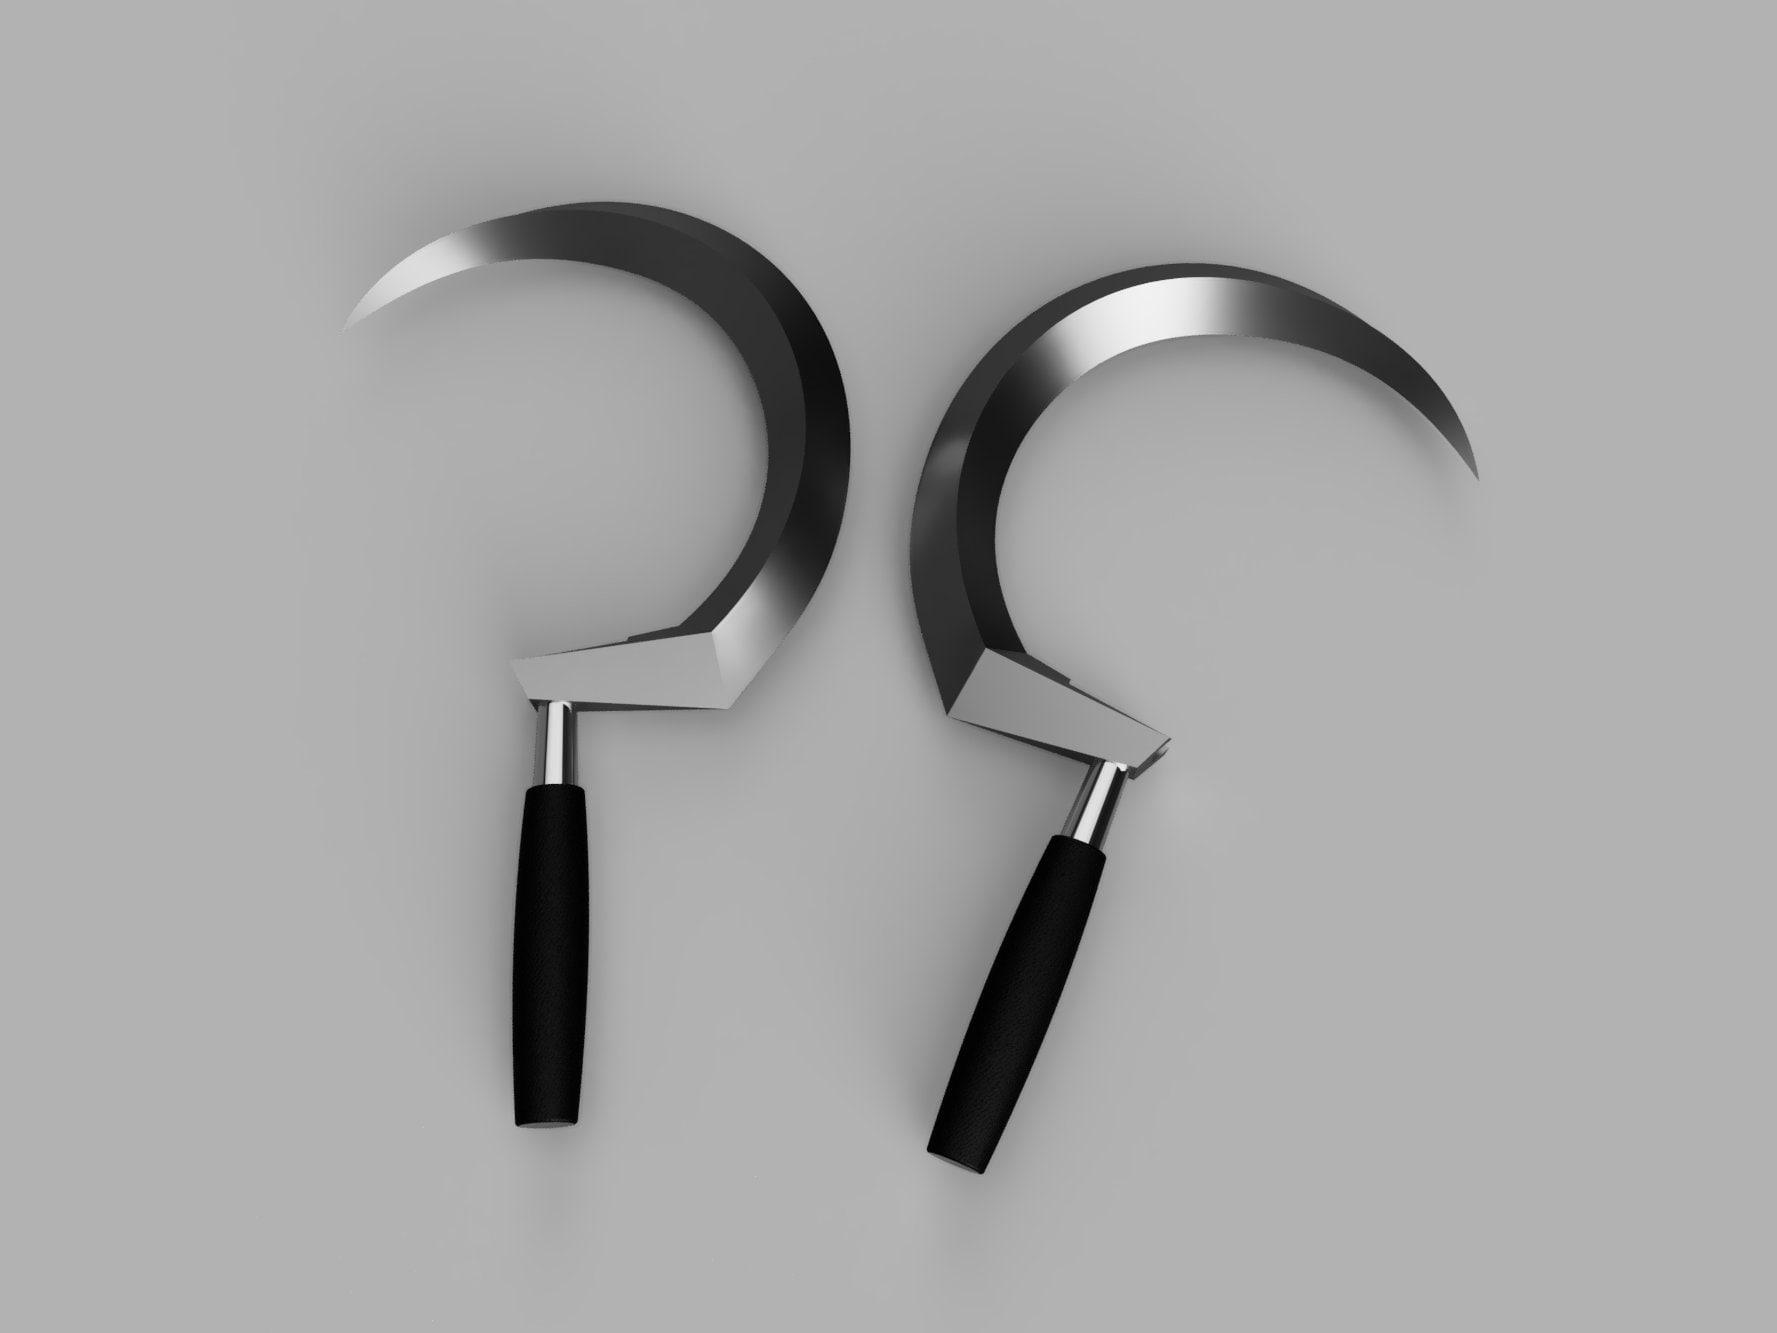foice: (910, 266, 1476, 1173), (350, 204, 850, 1126)
